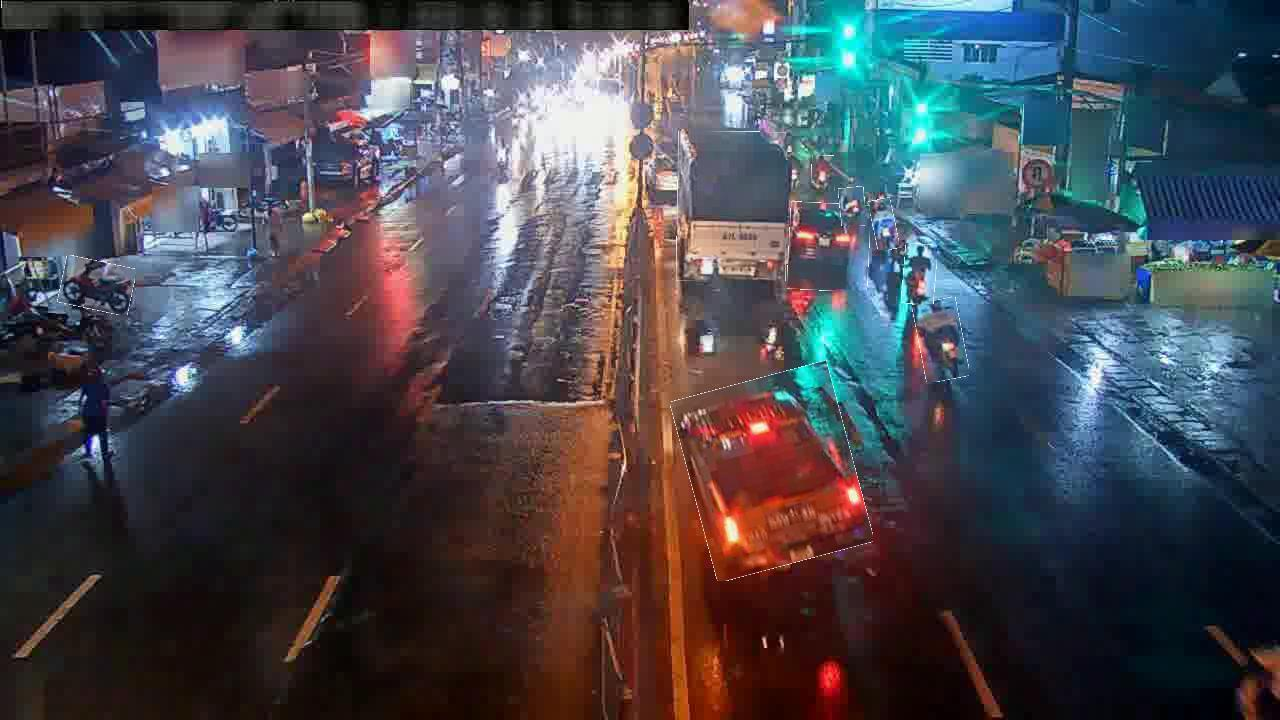8: (677, 132, 787, 282)
container: (680, 369, 864, 574), (788, 202, 870, 291)
motorbike: (916, 299, 967, 382), (59, 259, 134, 313), (903, 244, 937, 305), (870, 198, 898, 251), (839, 187, 866, 227), (812, 156, 836, 192)
